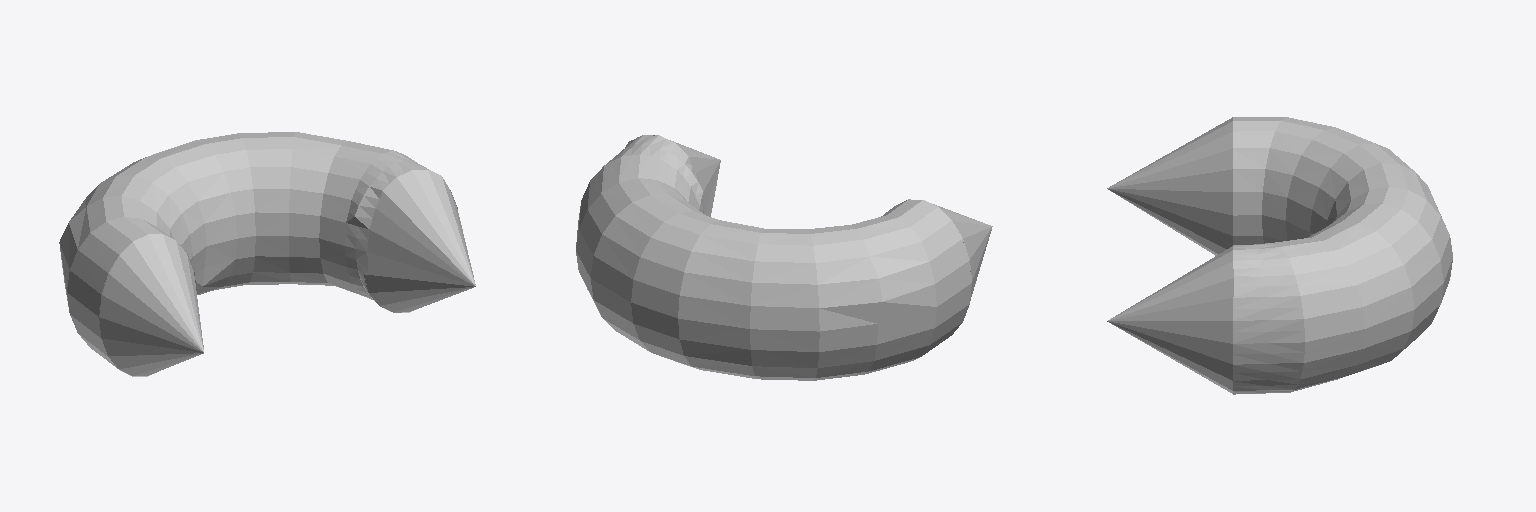
Rendered from Bullet4.obj.
3 views of the same model, side by side, from view 1: azimuth 30°, elevation 25°; view 2: azimuth 150°, elevation 25°; view 3: azimuth 270°, elevation 25° (orthographic).
Parts seen in each view (by area): view 1: polySurface3; view 2: polySurface3; view 3: polySurface3.
Boxes of the visible parts, x1=… form: polySurface3: x1=59, y1=132, x2=475, y2=376; polySurface3: x1=576, y1=135, x2=992, y2=380; polySurface3: x1=1107, y1=117, x2=1452, y2=394.
Size of the model in its own units: 2.66 by 1 by 2.21.